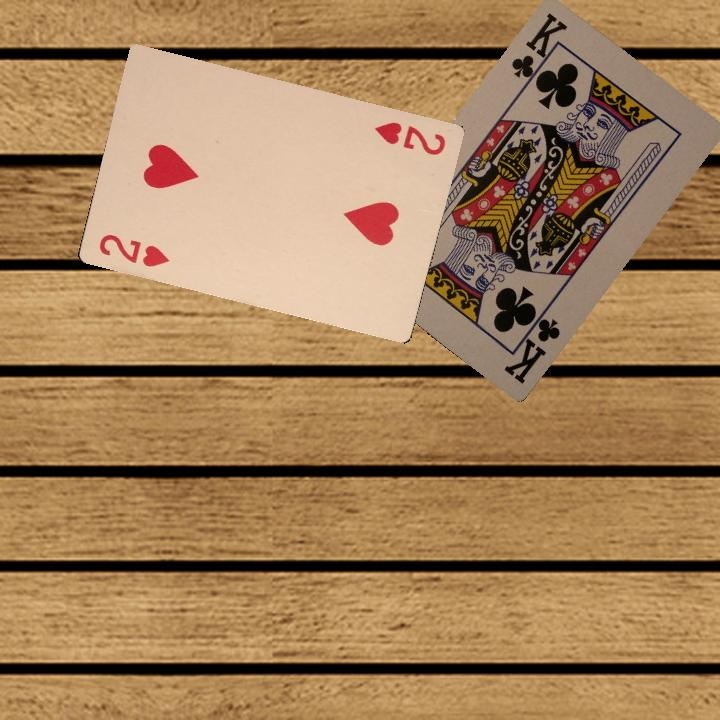2h: (370, 117, 448, 158), (94, 230, 172, 270)
Kc: (507, 9, 570, 91), (500, 305, 563, 386)
